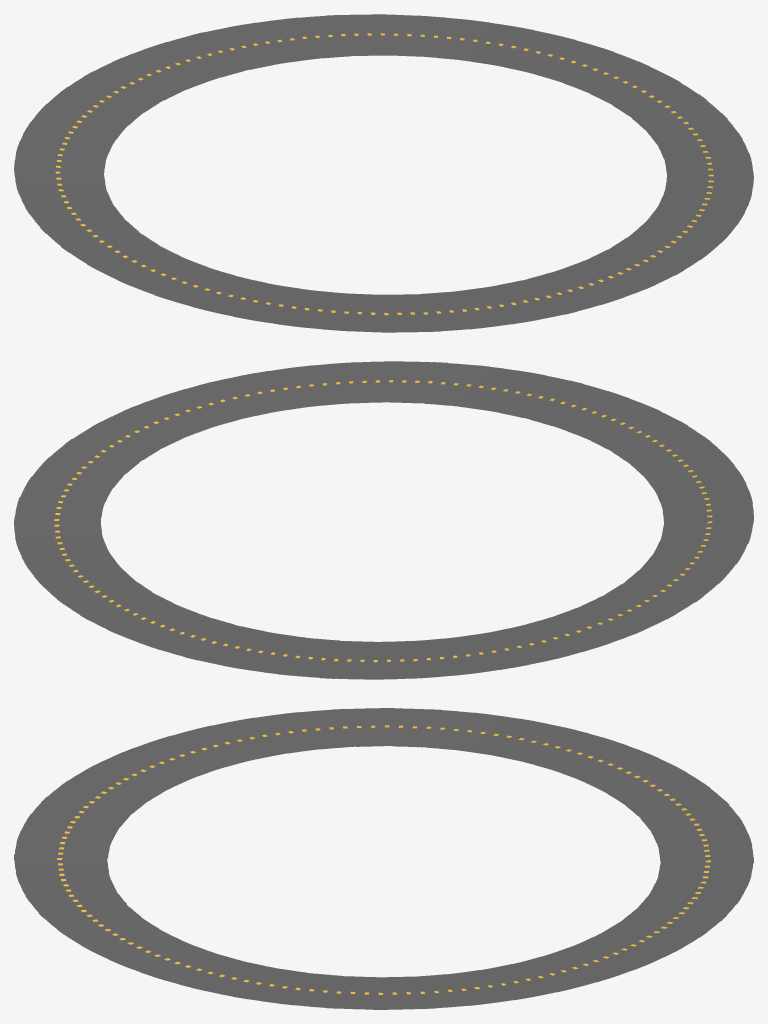
The picture shows the model from 3 angles, top to bottom: view 1: azimuth 30°, elevation 25°; view 2: azimuth 150°, elevation 25°; view 3: azimuth 270°, elevation 25°; orthographic projection. The views are drawn at different scales.
Visible parts, largest first — view 1: Cube.022; view 2: Cube.022; view 3: Cube.022.
Boxes of the visible parts, x1,y1,x2,y2 form: Cube.022: (14, 14, 753, 332); Cube.022: (14, 361, 753, 679); Cube.022: (14, 708, 753, 1009).
Size of the model in its own units: 1746 by 5.42 by 1809.
